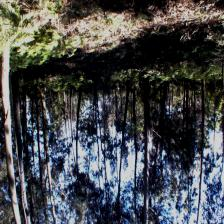trunktrack_idkeyframe: (0, 54, 14, 164), (122, 82, 131, 130), (21, 86, 28, 140), (76, 89, 82, 144), (144, 81, 150, 128), (160, 82, 168, 116), (200, 80, 206, 124), (40, 92, 46, 122), (132, 89, 137, 123)
